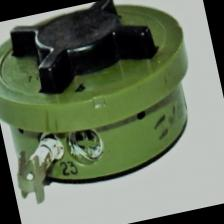PMN2: (0, 0, 217, 213)
